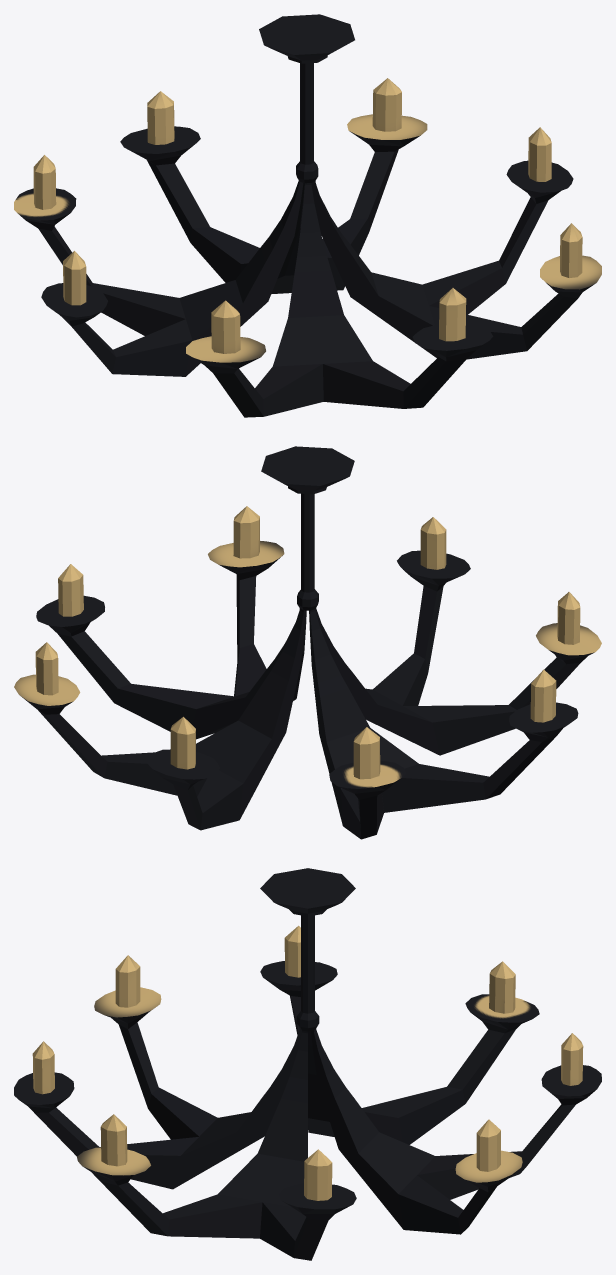
Rendered from chandelier.glb.
3 views of the same model, one above another, from view 1: azimuth 30°, elevation 25°; view 2: azimuth 150°, elevation 25°; view 3: azimuth 270°, elevation 25° (orthographic). The views are drawn at different scales.
Visible parts, largest first — view 1: Cylinder.002; view 2: Cylinder.002; view 3: Cylinder.002.
Boxes of the visible parts, x1,y1,x2,y2 form: Cylinder.002: [14, 14, 601, 417]; Cylinder.002: [14, 446, 601, 839]; Cylinder.002: [14, 868, 601, 1260].
Bounding box in the file's own units: 2.31 × 1.3 × 2.31.
Materials: 1 (1 with a texture image).
